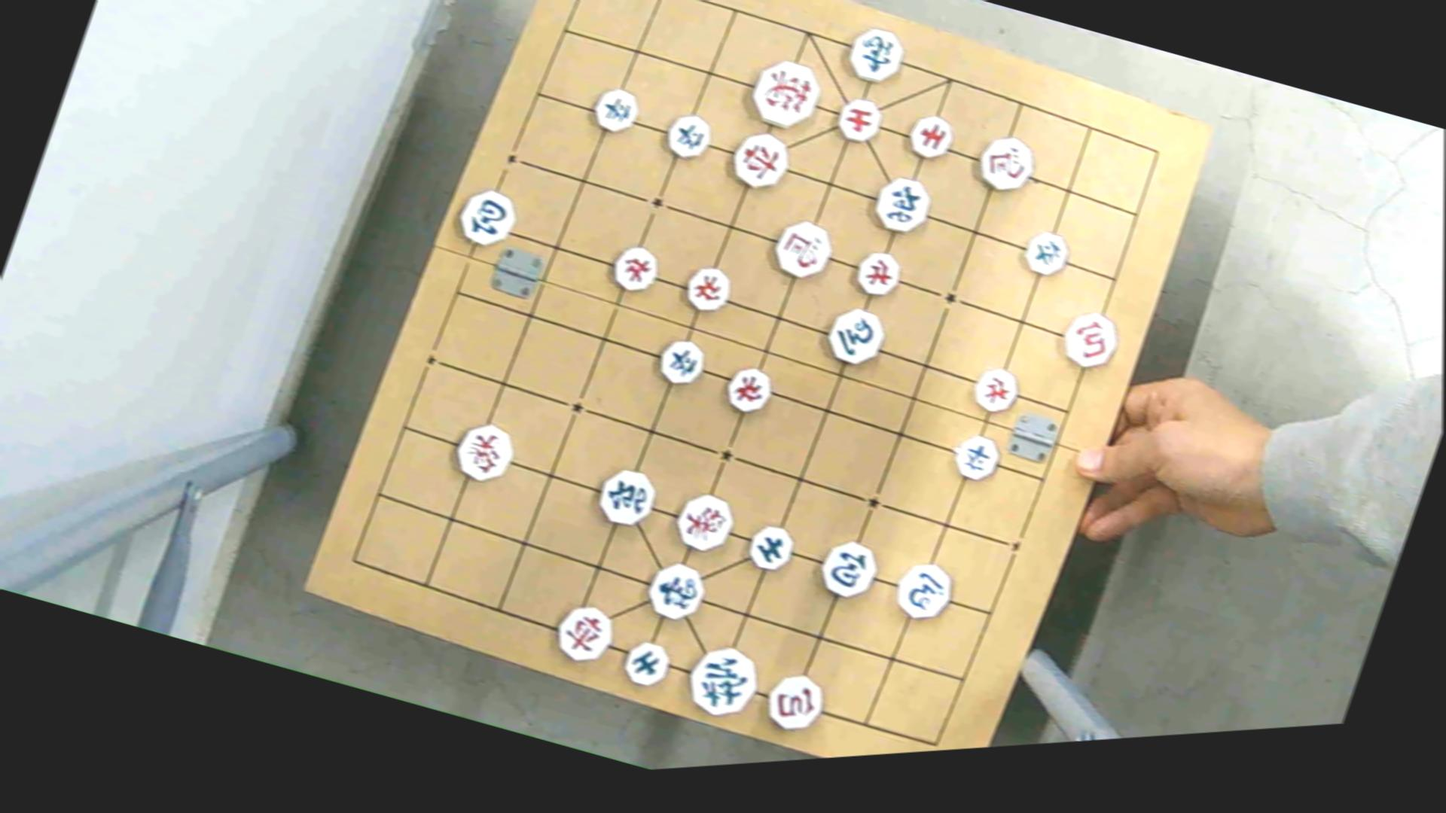cha_green: (868, 169, 937, 240), (595, 461, 657, 528)
cha_red: (727, 126, 792, 197), (550, 600, 616, 668)
jol_green: (659, 107, 718, 167), (586, 81, 645, 140), (651, 333, 709, 391), (948, 428, 1005, 486), (1020, 225, 1071, 279)
jol_red: (718, 359, 778, 422), (606, 239, 665, 299), (849, 246, 906, 302), (967, 362, 1025, 416), (678, 263, 734, 318)
ma_green: (888, 557, 959, 627), (819, 303, 889, 373)
ma_red: (970, 129, 1039, 198), (767, 217, 837, 285)
po_green: (814, 534, 885, 604), (453, 183, 520, 251)
po_red: (758, 666, 827, 738), (1055, 304, 1123, 376)
sa_green: (616, 635, 675, 692), (743, 519, 798, 574)
sa_red: (831, 93, 889, 148), (903, 109, 956, 163)
sang_green: (643, 559, 706, 625), (847, 25, 908, 85)
sang_red: (449, 417, 519, 486), (673, 489, 737, 556)
wang_green: (686, 645, 759, 720)
wang_red: (746, 55, 825, 136)
